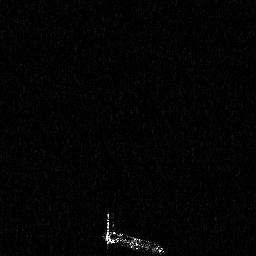ship: (99, 211, 167, 256)
